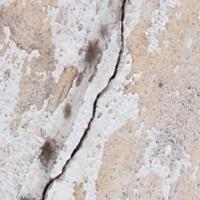crack: (35, 0, 147, 199)
